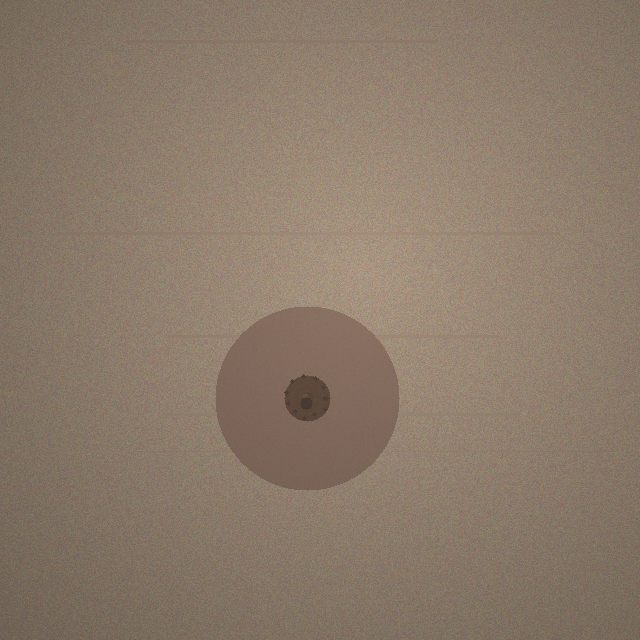cold_weld: (215, 306, 399, 490)
